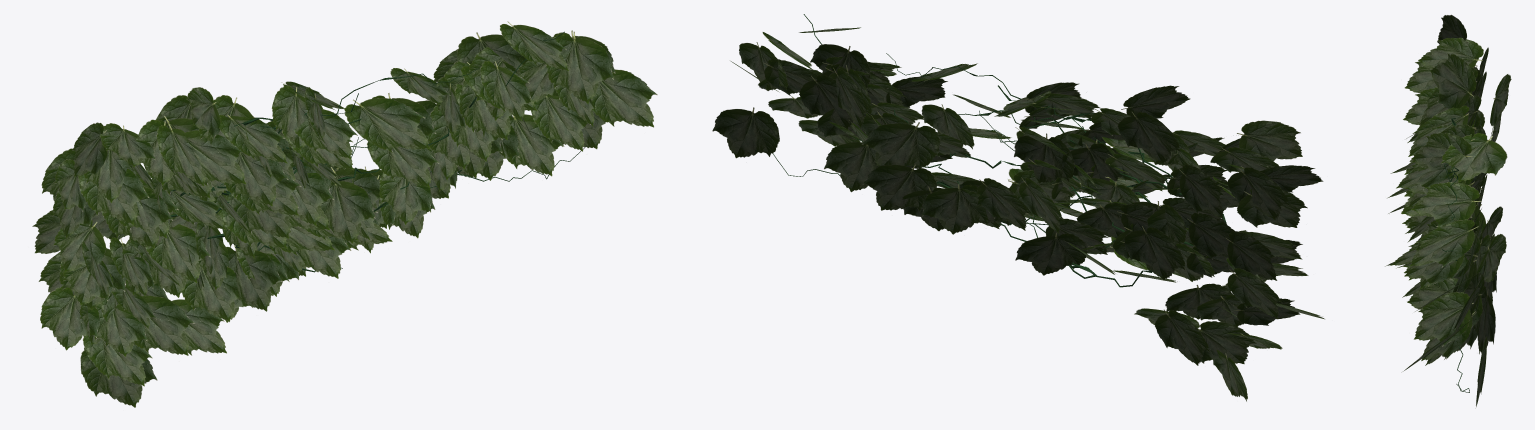
File: trepadora_pe.glb
3 renders of one model, left to right at view 1: azimuth 30°, elevation 25°; view 2: azimuth 150°, elevation 25°; view 3: azimuth 270°, elevation 25°, orthographic. The views are drawn at different scales.
Visible parts, largest first — view 1: Ivy_Strand_IvyLeaf_0, Ivy_Strand_IvyBranch_0; view 2: Ivy_Strand_IvyLeaf_0, Ivy_Strand_IvyBranch_0; view 3: Ivy_Strand_IvyLeaf_0, Ivy_Strand_IvyBranch_0.
Part boxes in pixels (x1,y1,x2,y2): Ivy_Strand_IvyLeaf_0: [32, 21, 657, 407]; Ivy_Strand_IvyBranch_0: [170, 31, 586, 272]; Ivy_Strand_IvyLeaf_0: [712, 27, 1324, 401]; Ivy_Strand_IvyBranch_0: [772, 14, 1226, 287]; Ivy_Strand_IvyLeaf_0: [1385, 14, 1511, 406]; Ivy_Strand_IvyBranch_0: [1442, 118, 1469, 392].
Size of the model in its own units: 3.45 by 1.62 by 0.7406.
2 materials, 1 textured.
